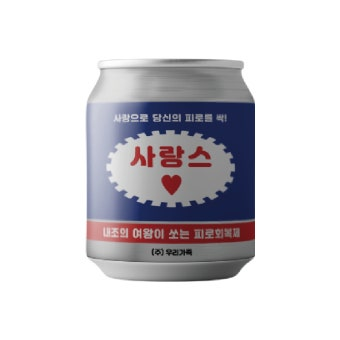paper: (84, 58, 258, 287)
